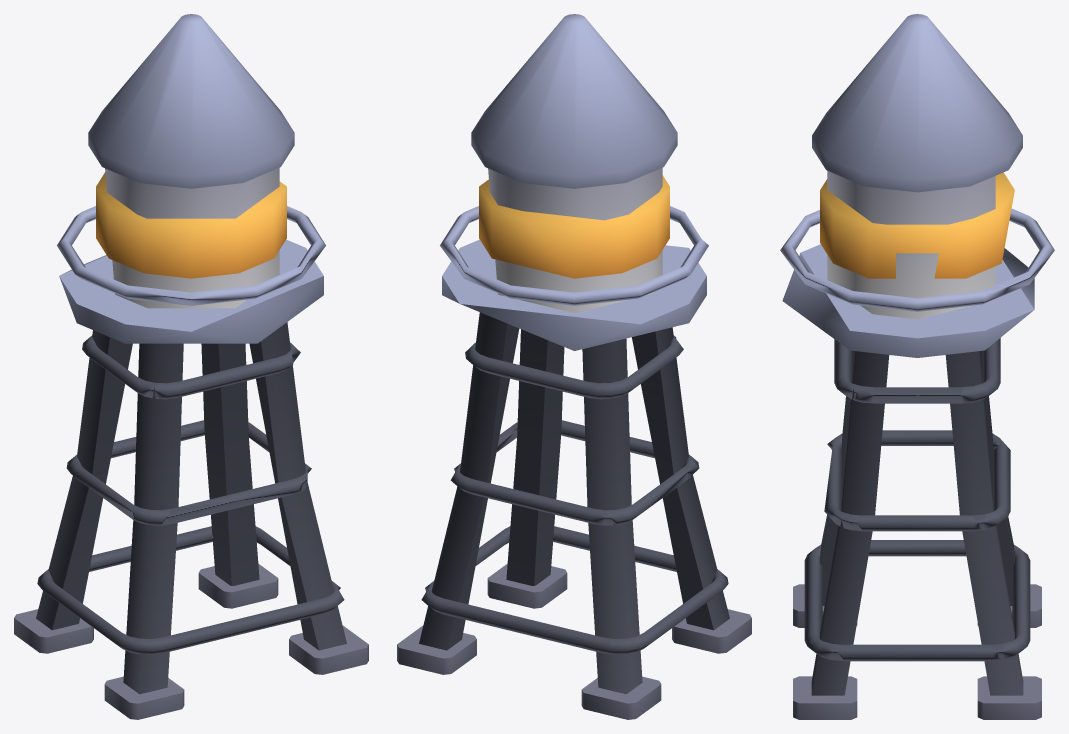
The model's file is water-tower.lod.glb.
The picture shows the model from 3 angles, left to right: view 1: azimuth 30°, elevation 25°; view 2: azimuth 150°, elevation 25°; view 3: azimuth 270°, elevation 25°; orthographic projection. The views are drawn at different scales.
Visible parts, largest first — view 1: water-tower; view 2: water-tower; view 3: water-tower.
Boxes of the visible parts, box(x1,y1,x2,y2) form: water-tower: box(14, 14, 368, 719); water-tower: box(397, 14, 751, 719); water-tower: box(780, 14, 1054, 719).
Size of the model in its own units: 0.8521 by 2.14 by 0.8317.
Materials: 1 (1 with a texture image).
